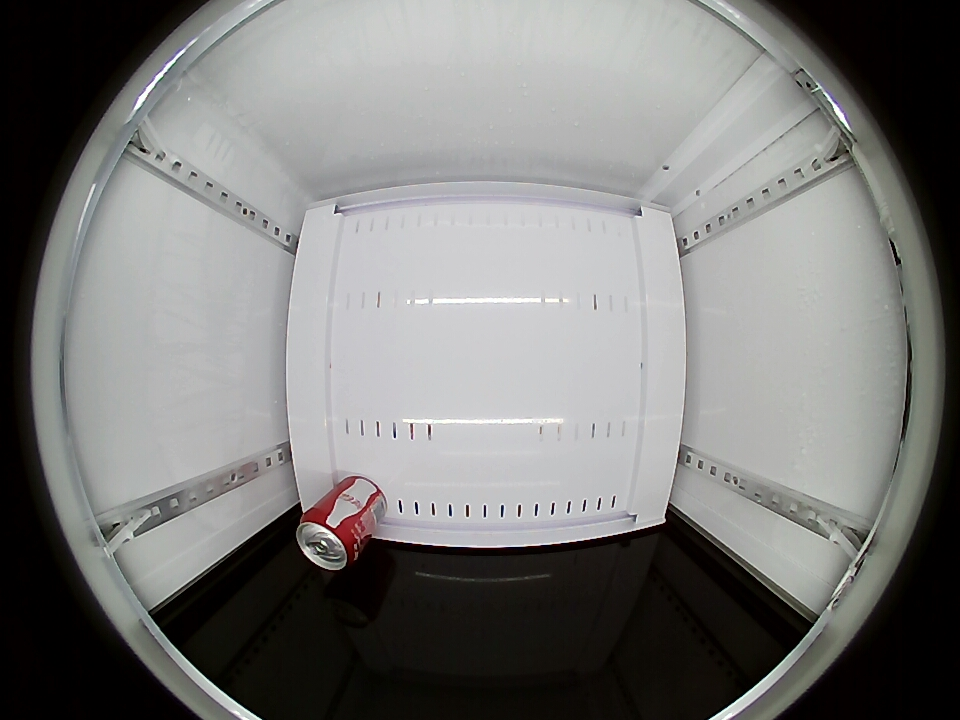kele: (296, 509, 363, 570)
